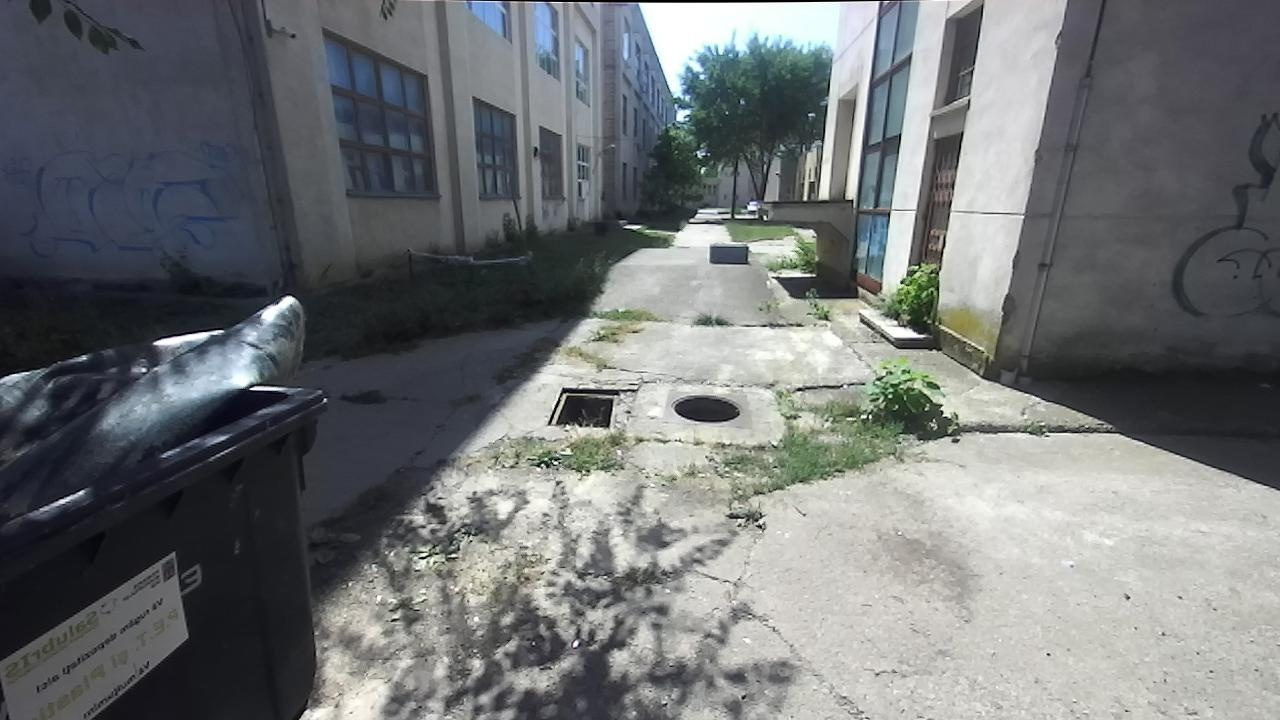drain: (541, 383, 629, 433), (666, 383, 748, 424)
